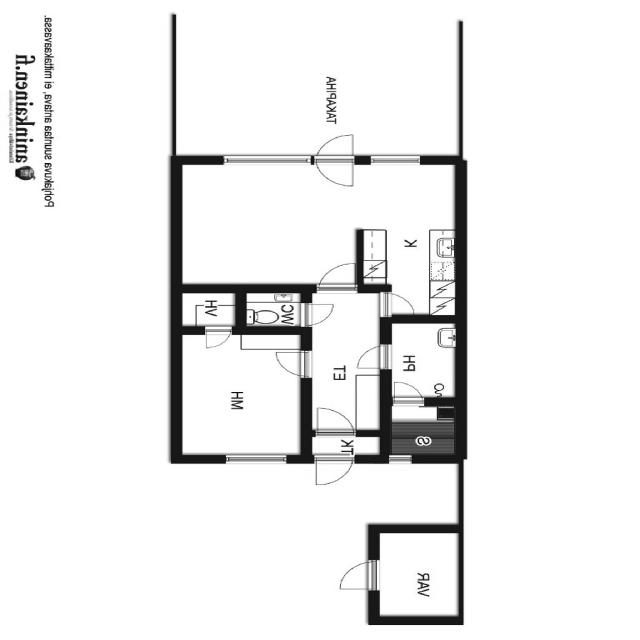door: (310, 131, 361, 192), (324, 558, 386, 596), (312, 453, 354, 489), (315, 260, 361, 291), (271, 348, 313, 378), (314, 404, 354, 435), (354, 344, 390, 372), (389, 378, 426, 404), (200, 324, 233, 352), (381, 292, 417, 317), (300, 302, 337, 326)
window: (214, 149, 318, 168), (215, 451, 294, 467), (364, 150, 429, 169), (386, 453, 416, 466)
zone: (173, 158, 360, 290), (176, 331, 304, 458), (364, 159, 461, 318), (375, 529, 462, 623), (386, 320, 458, 402), (386, 402, 460, 456), (175, 290, 241, 328), (240, 290, 304, 328)
